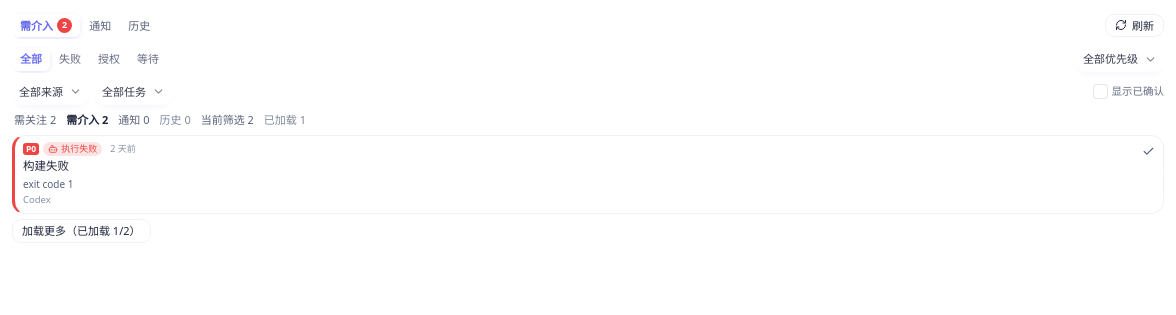
Test case: ActionCenterPanel 三层展示 › 加载更多使用后端游标追加，且按钮展示已加载/总数
Click the button "加载更多（已加载 1/2）": coordinates (81, 231) [12,219,150,243]
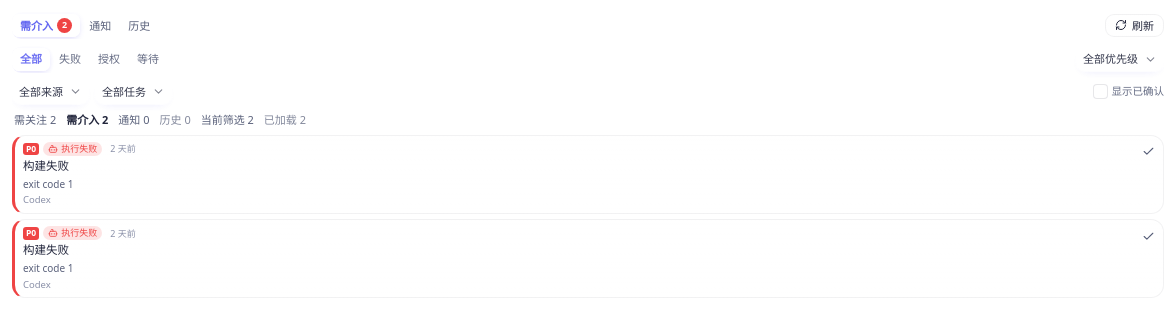
Now the button "加载更多" is gone
